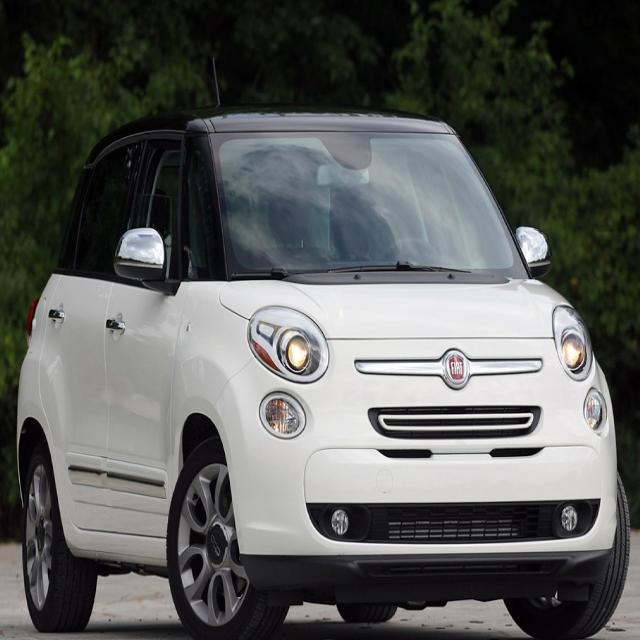door: (44, 143, 142, 537)
front_bumper: (213, 336, 618, 584)
front_glass: (210, 126, 517, 277)
front_left_side_light: (551, 302, 611, 438)
front_left_side_mirror: (514, 222, 552, 275)
front_right_side_door: (100, 123, 189, 549)
front_right_side_light: (246, 301, 332, 438)
front_right_side_mirror: (117, 222, 169, 290)
wheel: (166, 441, 282, 637), (504, 473, 630, 635), (20, 457, 96, 631)
